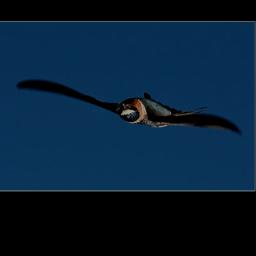Swallow: (15, 81, 241, 139)
